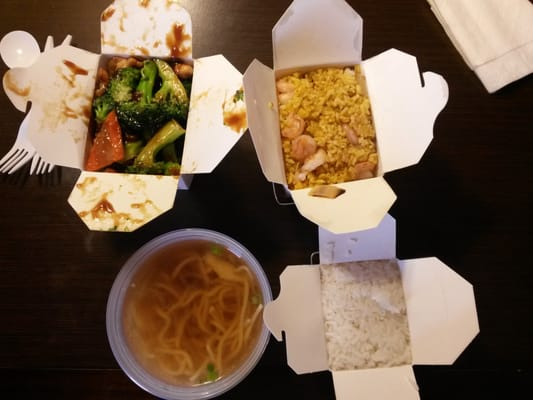curry: (92, 57, 189, 141)
sushi: (104, 227, 274, 400)
